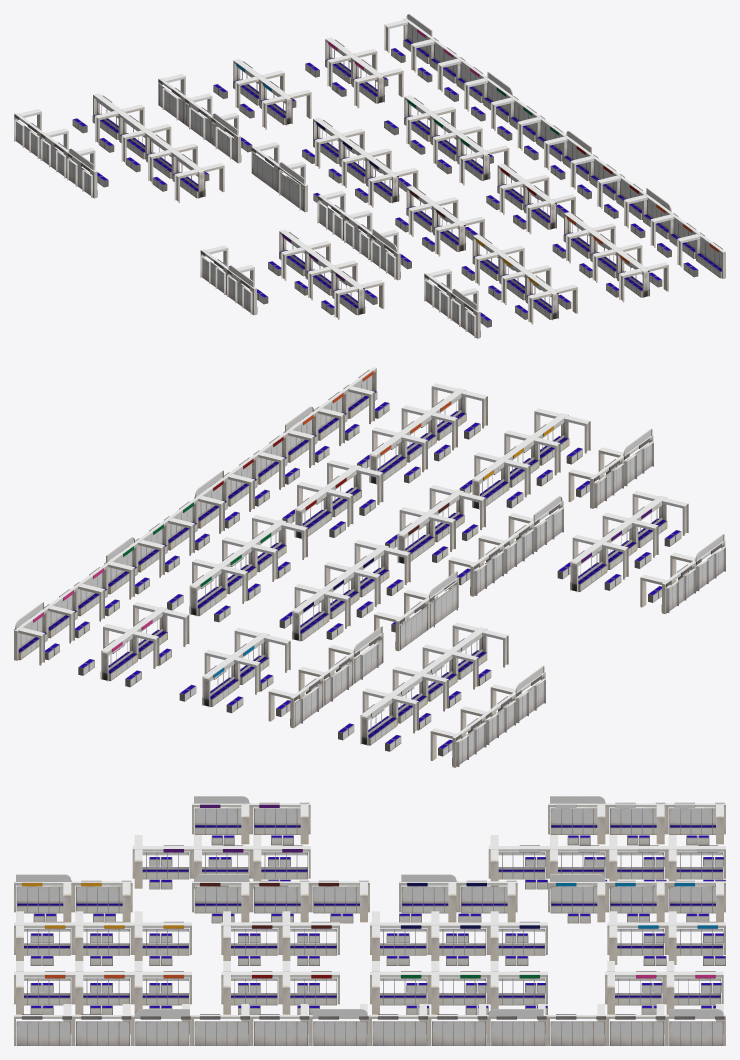
The model's file is WholeBooth.glb.
3 renders of one model, top to bottom at view 1: azimuth 30°, elevation 25°; view 2: azimuth 150°, elevation 25°; view 3: azimuth 270°, elevation 25°, orthographic. The views are drawn at different scales.
Parts seen in each view (by area): view 1: BoothSingle.019; view 2: BoothSingle.019; view 3: BoothSingle.019.
Part boxes in pixels (x1,y1,x2,y2): BoothSingle.019: (14,14,725,338); BoothSingle.019: (14,367,725,767); BoothSingle.019: (14,796,725,1045).
Bounding box in the file's own units: 47.03 × 3.73 × 65.93.
1 material, 1 textured.
